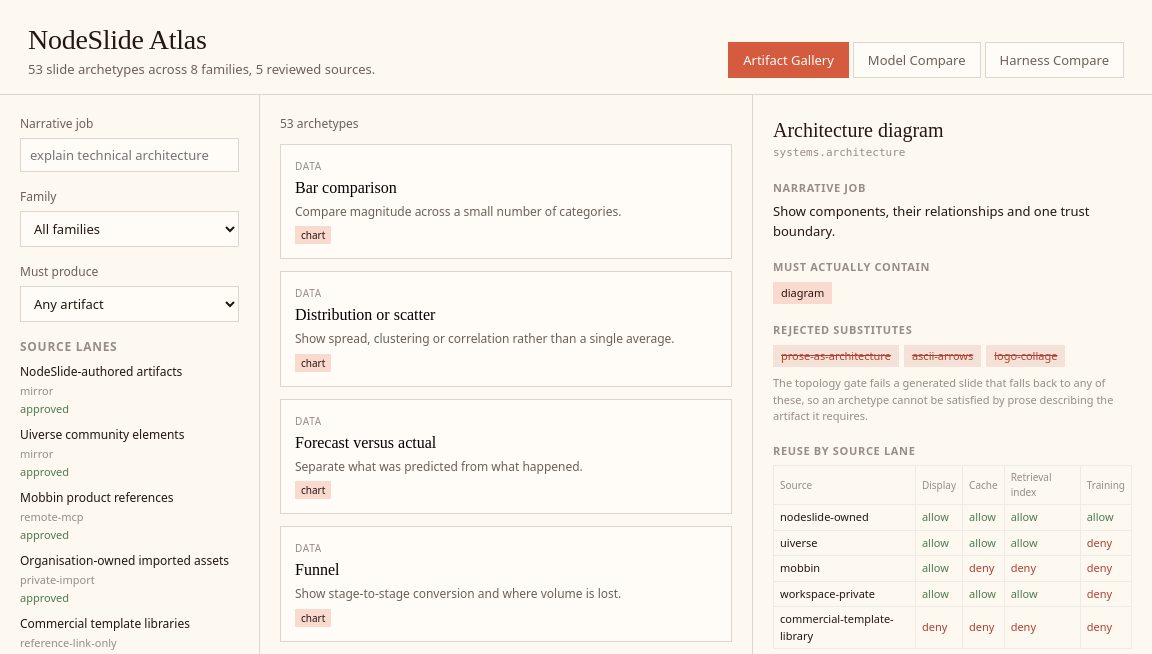
Scenario: Atlas Gallery: a builder looking for the right slide › keeps Harness Compare empty, but for the true reason
Click the button with test id "atlas-mode-harness-compare". click: (1054, 60)
box: [984,42,1124,78]
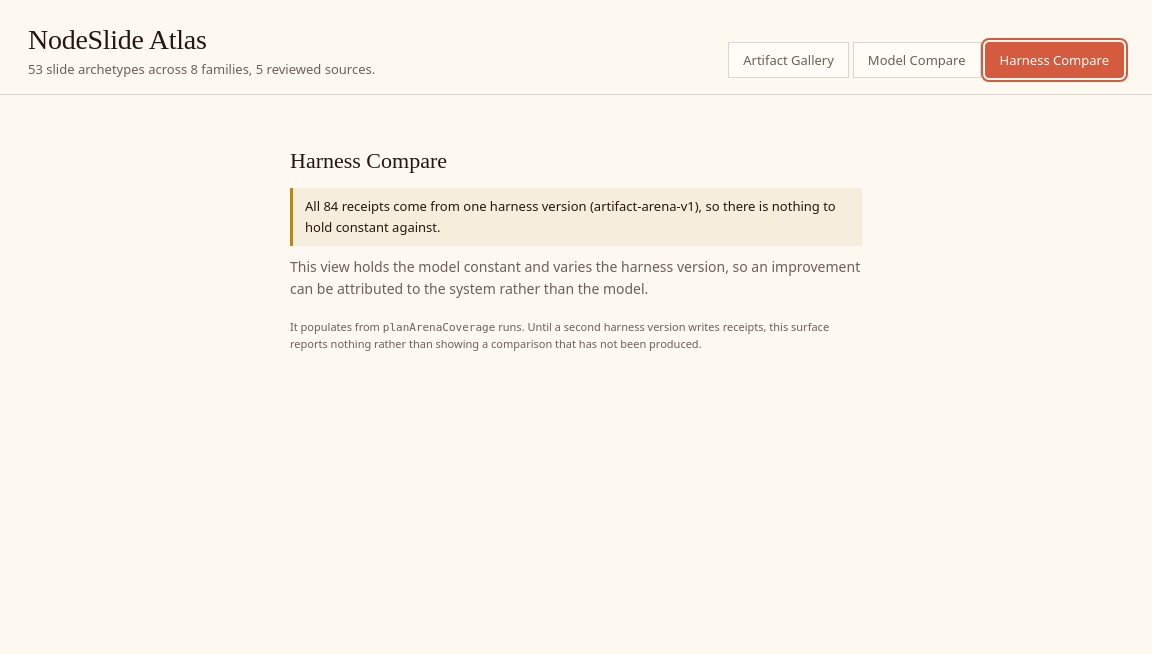
Check: the text with test id "atlas-empty-status" does not show "No arena receipts recorded yet.", box [290,188,862,246]
Check: the element with test id "atlas-empty-harness-compare" is shown, box [266,143,886,353]
Check: the text with test id "atlas-empty-status" shows "one harness version", box [305,197,836,236]
